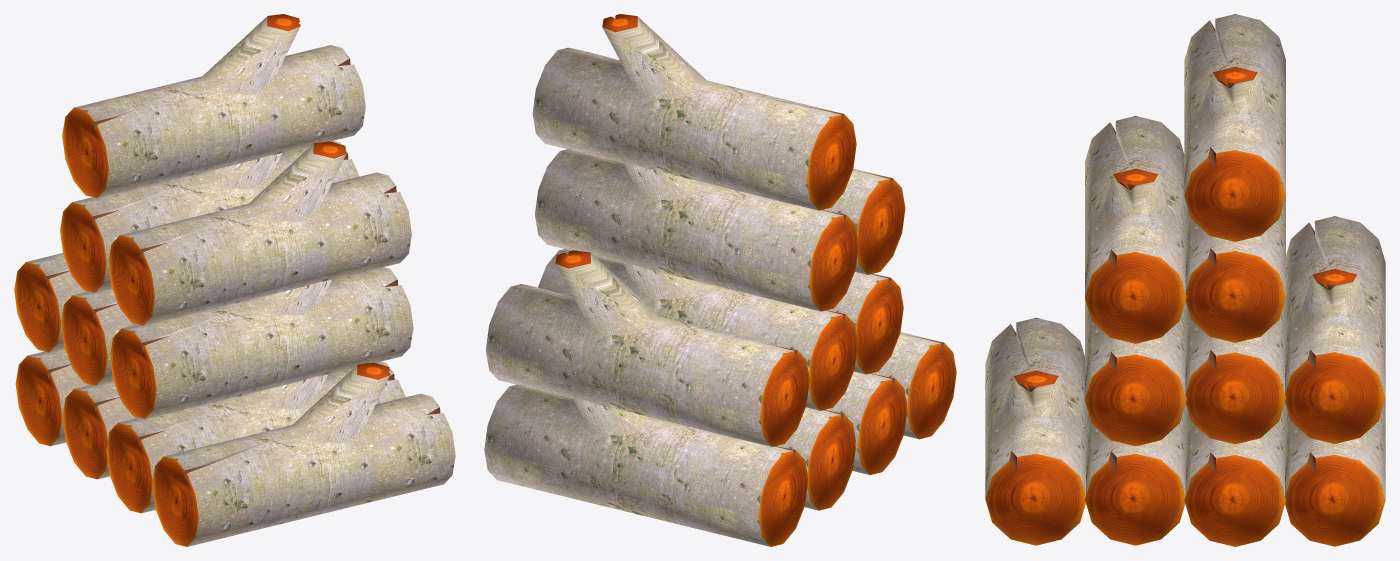
The model's file is LogPile_Sycamore.glb.
3 views of the same model, side by side, from view 1: azimuth 30°, elevation 25°; view 2: azimuth 150°, elevation 25°; view 3: azimuth 270°, elevation 25° (orthographic). The views are drawn at different scales.
Visible parts, largest first — view 1: LogPile_Sycamore; view 2: LogPile_Sycamore; view 3: LogPile_Sycamore.
Boxes of the visible parts, x1=… form: LogPile_Sycamore: x1=14, y1=14, x2=455, y2=546; LogPile_Sycamore: x1=484, y1=14, x2=956, y2=546; LogPile_Sycamore: x1=985, y1=14, x2=1385, y2=546.
Size of the model in its own units: 3.43 by 5.11 by 4.2.
2 materials, 2 textured.
